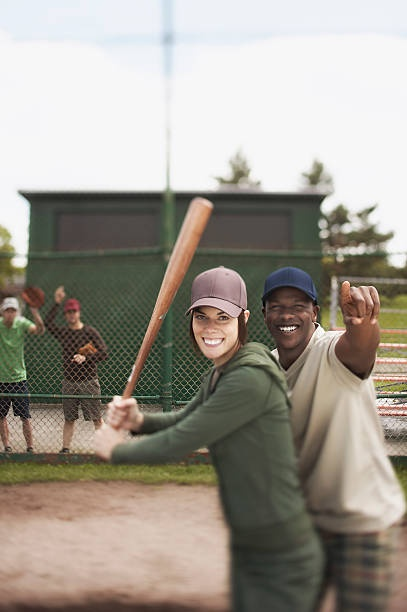bita: (113, 199, 212, 406)
